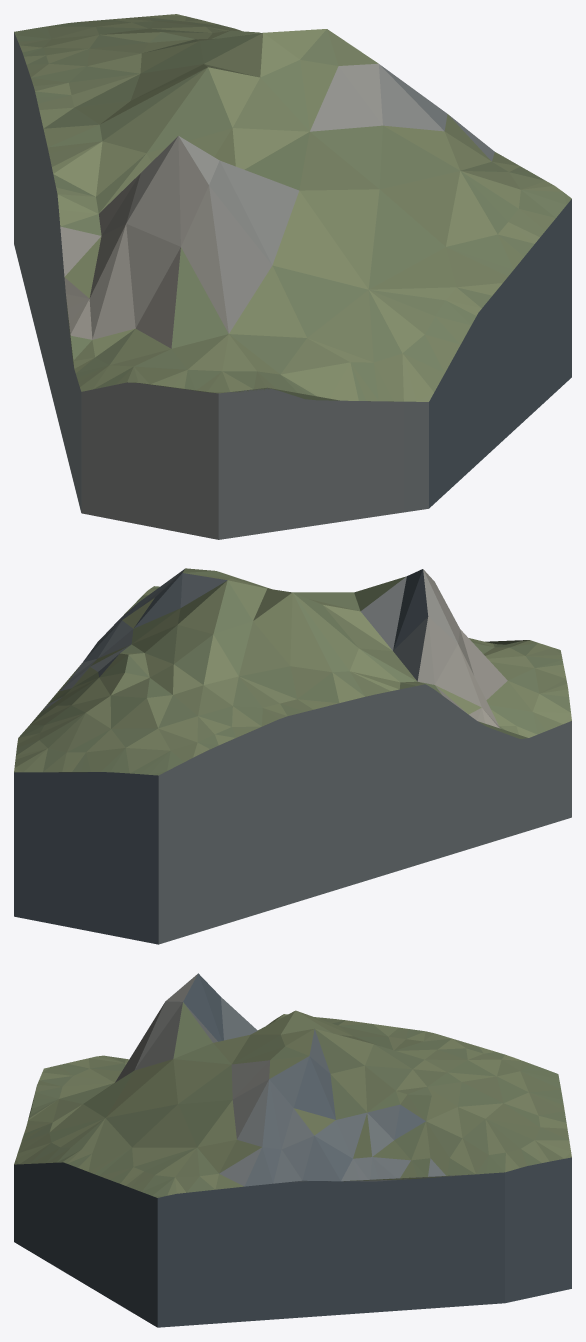
Rendered from cliff_eastern_plateau.glb.
3 renders of one model, top to bottom at view 1: azimuth 30°, elevation 25°; view 2: azimuth 150°, elevation 25°; view 3: azimuth 270°, elevation 25°, orthographic. The views are drawn at different scales.
Parts seen in each view (by area): view 1: cliff_eastern_plateau; view 2: cliff_eastern_plateau; view 3: cliff_eastern_plateau.
Boxes of the visible parts, box(x1,y1,x2,y2) form: cliff_eastern_plateau: box(14, 14, 571, 539); cliff_eastern_plateau: box(14, 568, 571, 944); cliff_eastern_plateau: box(14, 973, 571, 1327).
Size of the model in its own units: 130 by 77 by 171.
